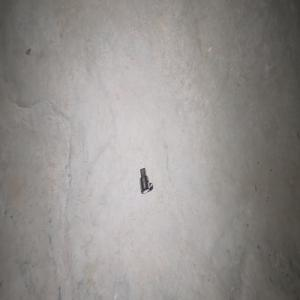MetalPart: (139, 167, 153, 194)
